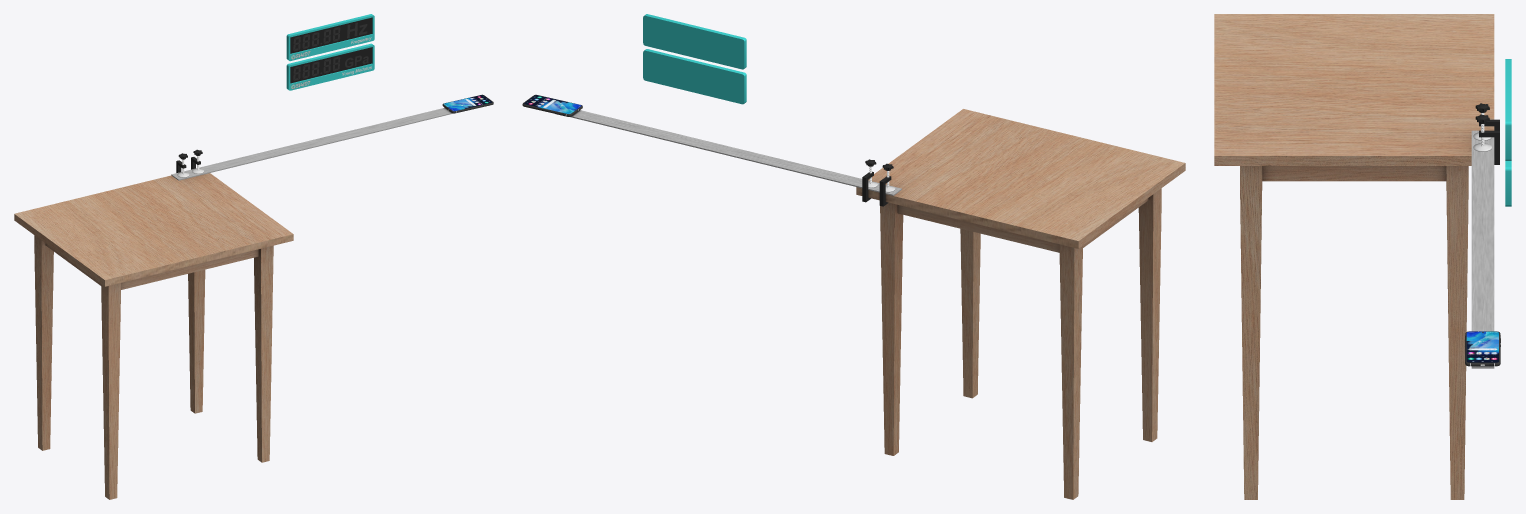
File: Aluminum_bar_10cm_90cm.glb
3 views of the same model, side by side, from view 1: azimuth 30°, elevation 25°; view 2: azimuth 150°, elevation 25°; view 3: azimuth 270°, elevation 25° (orthographic). The views are drawn at different scales.
Parts seen in each view (by area): view 1: MESA, PASAMANO-ALUMINIO_10_90, CAJA DISPLAY GPa, CAJA DISPLAY Hz, SMARTPHONE_10_90; view 2: MESA, CAJA DISPLAY GPa, CAJA DISPLAY Hz, PASAMANO-ALUMINIO_10_90, SMARTPHONE_10_90; view 3: MESA, PASAMANO-ALUMINIO_10_90, SMARTPHONE_10_90, CAJA DISPLAY Hz.
Part boxes in pixels (x1=…): MESA: x1=14, y1=173, x2=293, y2=499; PASAMANO-ALUMINIO_10_90: x1=171, y1=107, x2=453, y2=180; CAJA DISPLAY GPa: x1=286, y1=43, x2=374, y2=90; CAJA DISPLAY Hz: x1=286, y1=14, x2=374, y2=61; SMARTPHONE_10_90: x1=442, y1=94, x2=493, y2=113; MESA: x1=856, y1=109, x2=1185, y2=499; CAJA DISPLAY GPa: x1=643, y1=49, x2=746, y2=104; CAJA DISPLAY Hz: x1=643, y1=14, x2=746, y2=69; PASAMANO-ALUMINIO_10_90: x1=570, y1=110, x2=901, y2=195; SMARTPHONE_10_90: x1=522, y1=94, x2=582, y2=116; MESA: x1=1214, y1=14, x2=1494, y2=499; PASAMANO-ALUMINIO_10_90: x1=1471, y1=130, x2=1494, y2=368; SMARTPHONE_10_90: x1=1465, y1=331, x2=1500, y2=366; CAJA DISPLAY Hz: x1=1505, y1=59, x2=1511, y2=160.
Size of the model in its own units: 1.5 by 1.03 by 0.531.
94 materials, 5 textured.
